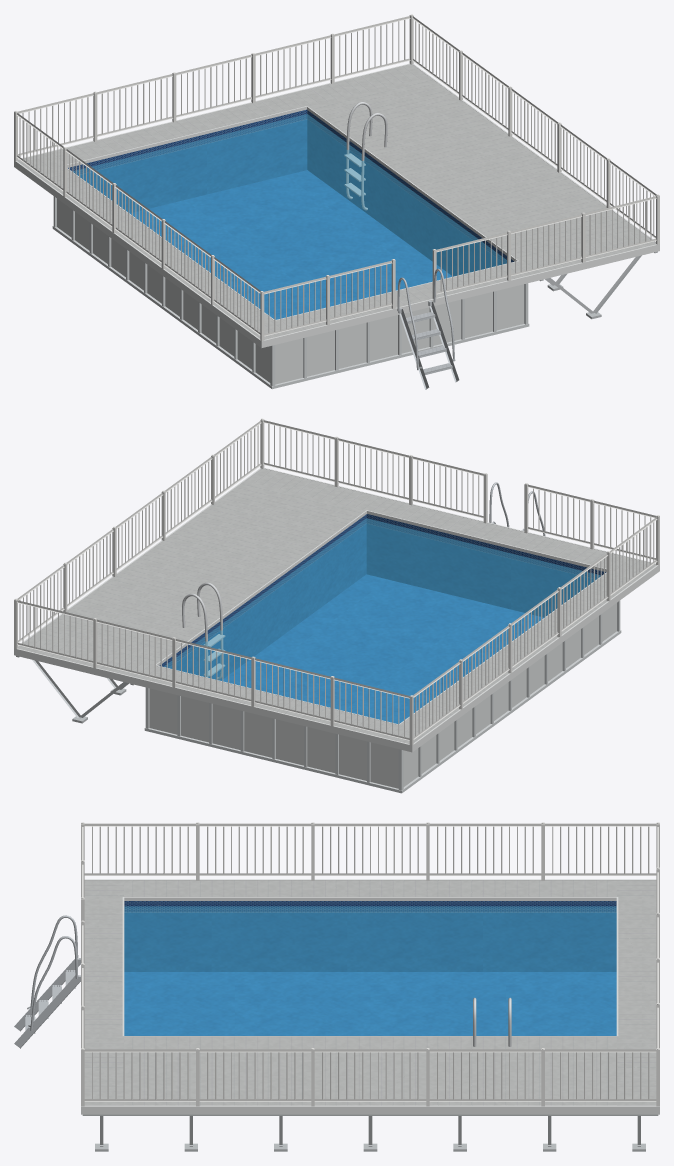
File: kayak-pool-16x24-white-side-ag-fence.b16f1327fa.glb
3 renders of one model, top to bottom at view 1: azimuth 30°, elevation 25°; view 2: azimuth 150°, elevation 25°; view 3: azimuth 270°, elevation 25°, orthographic. The views are drawn at different scales.
Parts seen in each view (by area): view 1: water, deck, fence, liner_floor, liner_wall, wall, fascia, upright, ladder, steel, stud; view 2: water, deck, fence, liner_floor, liner_wall, wall, fascia, upright, steel, stud; view 3: water, deck, liner_wall, liner_floor, fence, fascia, stud, ladder.
Part boxes in pixels (<box>): water: <box>73,114,506,319</box>; deck: <box>17,64,655,339</box>; fence: <box>14,14,659,341</box>; liner_floor: <box>130,170,451,319</box>; liner_wall: <box>68,109,513,276</box>; wall: <box>57,198,524,384</box>; fascia: <box>14,63,659,347</box>; upright: <box>52,196,529,389</box>; ladder: <box>397,268,459,389</box>; steel: <box>344,102,387,210</box>; stud: <box>539,251,657,319</box>; water: <box>164,518,600,723</box>; deck: <box>18,468,656,743</box>; fence: <box>14,418,659,745</box>; liner_floor: <box>221,574,543,723</box>; liner_wall: <box>159,514,605,680</box>; wall: <box>149,603,616,788</box>; fascia: <box>14,467,659,752</box>; upright: <box>144,600,621,793</box>; steel: <box>182,582,225,679</box>; stud: <box>16,656,133,723</box>; water: <box>124,906,616,1035</box>; deck: <box>84,880,656,1105</box>; liner_wall: <box>124,901,616,971</box>; liner_floor: <box>124,972,616,1035</box>; fence: <box>81,822,659,1106</box>; fascia: <box>81,879,659,1114</box>; stud: <box>82,1114,658,1151</box>; ladder: <box>14,915,80,1048</box>.
Bounding box in the file's own units: 7.93 × 2.15 × 9.52.
11 materials, 3 textured.
